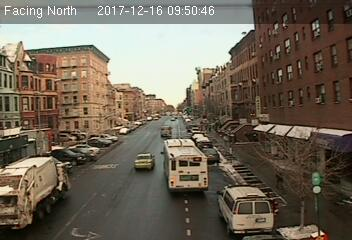bus: (162, 139, 211, 195)
car: (133, 152, 155, 170), (202, 148, 219, 163), (159, 126, 172, 136)
police: (215, 181, 274, 234)
truck: (1, 155, 72, 229)
